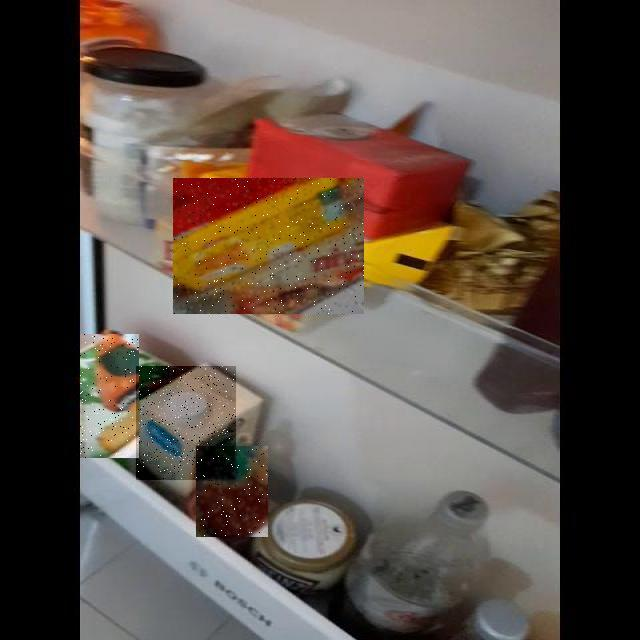Butter: (173, 178, 364, 314)
Juice: (80, 334, 139, 458)
Milk: (136, 366, 236, 480)
Sauce: (196, 446, 268, 537)
